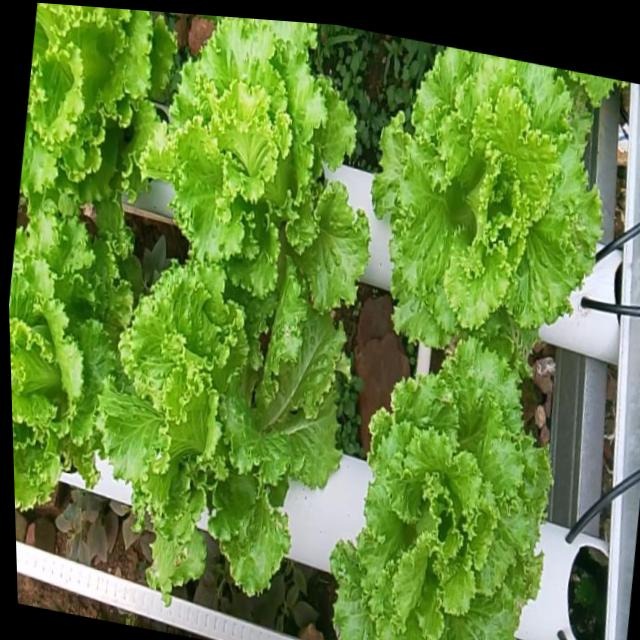Mature: (94, 263, 341, 605), (364, 47, 618, 358), (146, 16, 363, 332), (324, 343, 545, 640), (9, 228, 125, 521), (18, 3, 169, 223)
